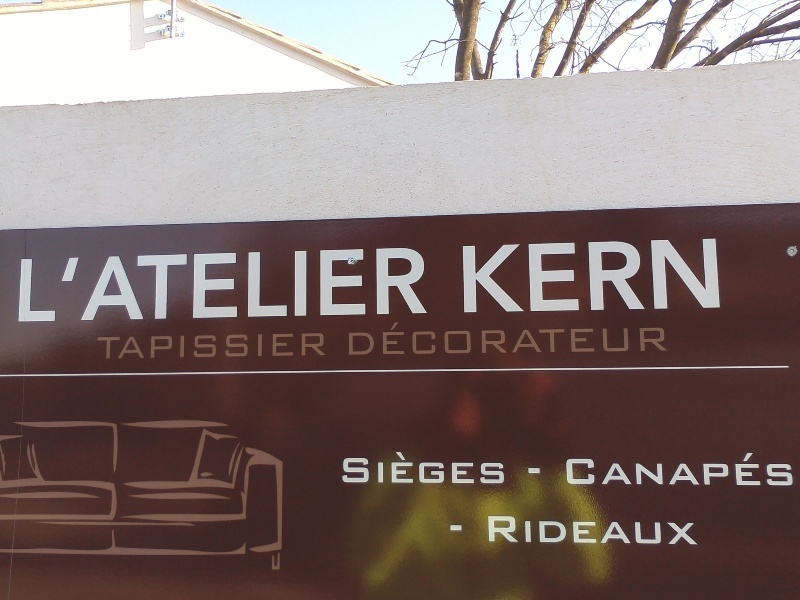text: (17, 246, 32, 324), (33, 246, 48, 324), (49, 246, 64, 324), (65, 246, 80, 324), (81, 246, 96, 324), (97, 246, 112, 324), (113, 246, 128, 324), (129, 246, 144, 324), (145, 246, 160, 324), (161, 246, 176, 324), (177, 246, 192, 324), (193, 246, 208, 324), (209, 246, 224, 324), (225, 246, 240, 324), (241, 246, 256, 324), (257, 246, 272, 324), (273, 246, 288, 324), (289, 246, 304, 324), (305, 246, 320, 324), (321, 246, 336, 324), (337, 246, 352, 324), (353, 246, 368, 324), (369, 246, 384, 324), (385, 246, 400, 324), (401, 246, 416, 324), (465, 237, 480, 315), (481, 237, 496, 315), (497, 237, 512, 315), (513, 237, 528, 315), (529, 237, 544, 315), (545, 237, 560, 315), (561, 237, 576, 315), (577, 237, 592, 315), (593, 237, 608, 315), (609, 237, 624, 315), (625, 237, 640, 315), (641, 237, 656, 315), (657, 237, 672, 315), (673, 237, 688, 315), (689, 237, 704, 315), (705, 237, 720, 315), (417, 246, 426, 324), (353, 318, 368, 359), (369, 318, 384, 359), (385, 318, 400, 359), (401, 318, 416, 359), (417, 318, 432, 359), (433, 318, 448, 359), (449, 318, 464, 359), (465, 318, 480, 359), (481, 318, 496, 359), (497, 318, 512, 359), (513, 318, 528, 359), (529, 318, 544, 359), (545, 318, 560, 359), (561, 318, 576, 359), (577, 318, 592, 359), (593, 318, 608, 359), (609, 318, 624, 359), (625, 318, 640, 359), (641, 318, 656, 359), (657, 318, 672, 359), (577, 450, 592, 490), (593, 450, 608, 490), (609, 450, 624, 490), (625, 450, 640, 490), (641, 450, 656, 490), (657, 450, 672, 490), (673, 450, 688, 490), (689, 450, 704, 490), (705, 450, 720, 490), (721, 450, 736, 490), (737, 450, 752, 490), (753, 450, 768, 490), (769, 450, 784, 490), (353, 449, 368, 487), (369, 449, 384, 487), (385, 449, 400, 487), (401, 449, 416, 487), (417, 449, 432, 487), (433, 449, 448, 487), (449, 449, 464, 487), (465, 449, 480, 487), (481, 449, 496, 487), (497, 449, 510, 487), (497, 514, 512, 546), (513, 514, 528, 546), (529, 514, 544, 546), (545, 514, 560, 546), (561, 514, 576, 546), (577, 514, 592, 546), (593, 514, 608, 546), (609, 514, 624, 546), (625, 514, 640, 546), (641, 514, 656, 546), (657, 514, 672, 546), (673, 514, 688, 546), (565, 450, 576, 490), (785, 450, 796, 490), (97, 332, 112, 361), (113, 332, 128, 361), (129, 332, 144, 361), (145, 332, 160, 361), (161, 332, 176, 361), (177, 332, 192, 361), (193, 332, 208, 361), (209, 332, 224, 361), (225, 332, 240, 361), (241, 332, 256, 361), (257, 332, 272, 361), (273, 332, 288, 361), (289, 332, 304, 361), (305, 332, 320, 361), (341, 449, 352, 487), (529, 456, 544, 483), (459, 237, 464, 315), (689, 514, 700, 546), (486, 514, 496, 546), (721, 237, 725, 315), (346, 318, 352, 359), (449, 520, 464, 534), (321, 332, 327, 361), (524, 456, 528, 483), (545, 456, 548, 483), (94, 332, 96, 361), (465, 520, 469, 534), (673, 318, 674, 359), (446, 520, 448, 534)
